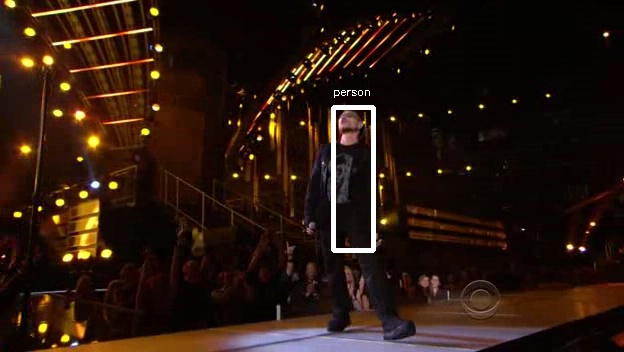person: (308, 110, 377, 240), (305, 110, 374, 240), (311, 110, 380, 240), (308, 107, 377, 237), (308, 113, 377, 243)
target_negative: (128, 181, 379, 301), (522, 8, 581, 288), (128, 329, 498, 337), (458, 95, 487, 164), (217, 101, 232, 234), (609, 41, 611, 75)
